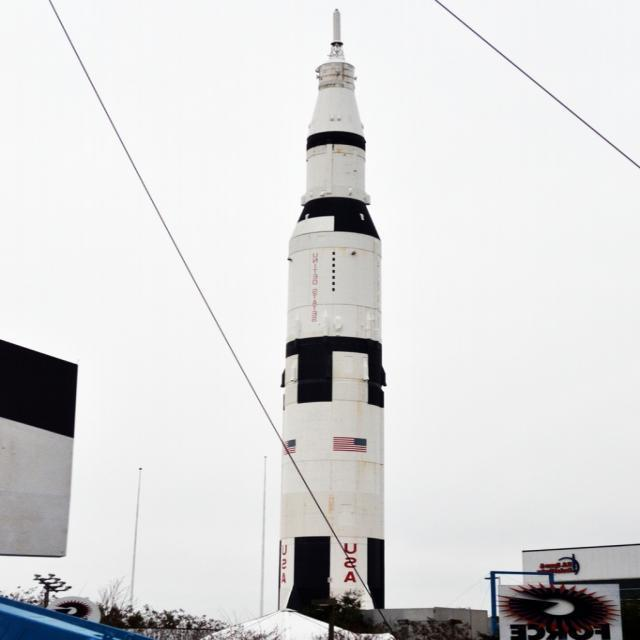missile: (234, 58, 429, 640)
